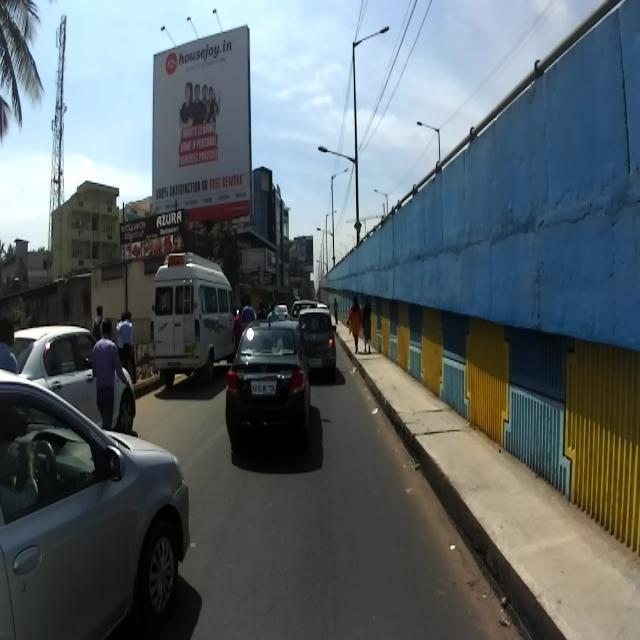car: (0, 378, 196, 639), (10, 326, 136, 436), (225, 316, 312, 456)
mini-bus: (150, 236, 234, 386)
